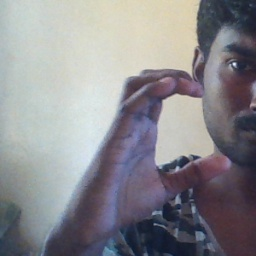C: (122, 60, 236, 204)
